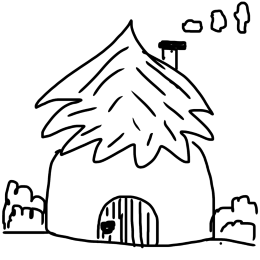door: (91, 191, 162, 253)
roof: (34, 14, 220, 169)
smoking_chimney: (154, 1, 255, 82)
wall: (41, 125, 218, 249)
